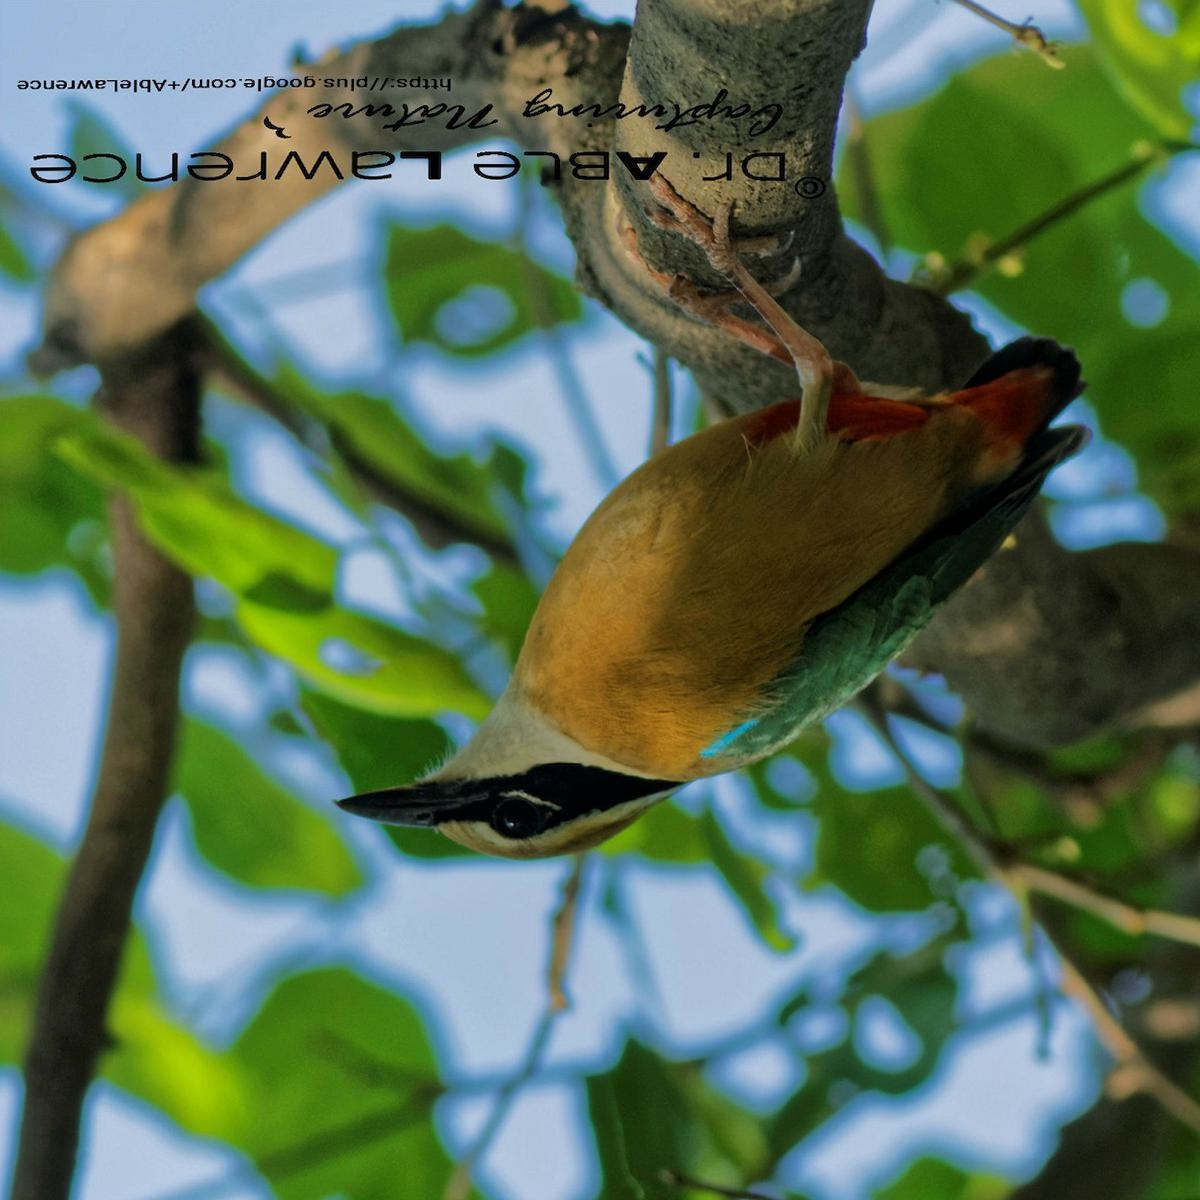pitta: (330, 299, 1199, 893)
